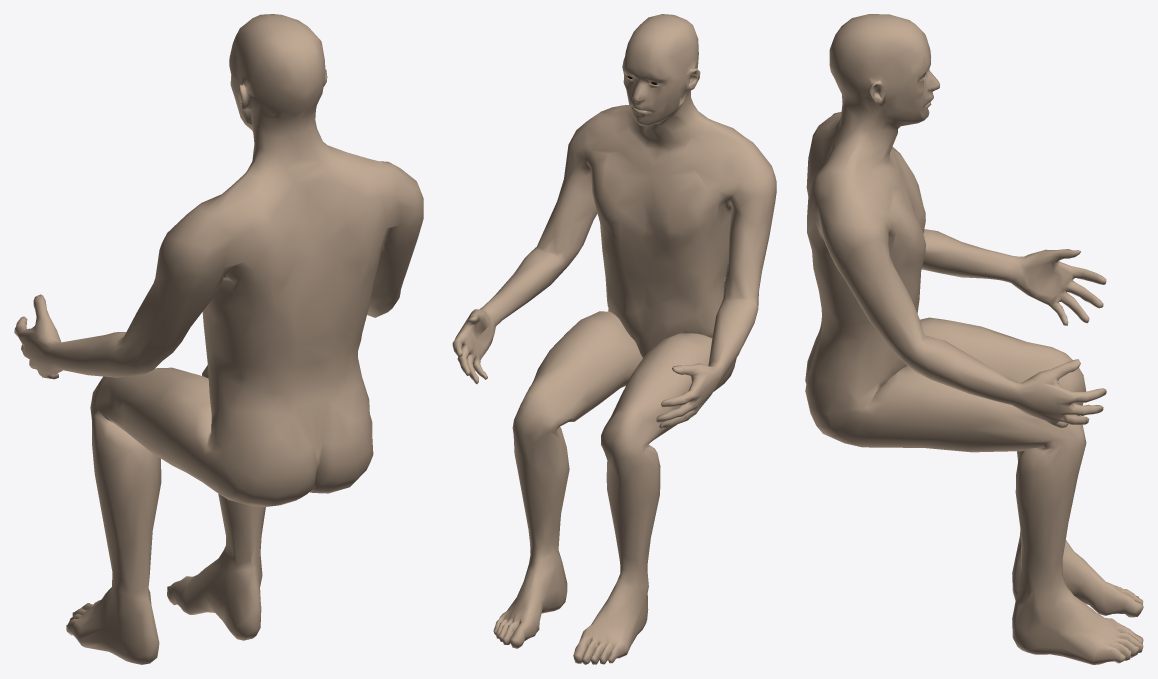
File: seated_passenger_near.glb
The picture shows the model from 3 angles, left to right: view 1: azimuth 30°, elevation 25°; view 2: azimuth 150°, elevation 25°; view 3: azimuth 270°, elevation 25°; orthographic projection. The views are drawn at different scales.
Visible parts, largest first — view 1: Body; view 2: Body; view 3: Body.
Boxes of the visible parts, left/top/right/bottom form: Body: left=14, top=14, right=423, bottom=664; Body: left=452, top=14, right=776, bottom=664; Body: left=805, top=14, right=1143, bottom=664.
Bounding box in the file's own units: 0.6447 × 1.39 × 0.693.
2 materials, 1 textured.
